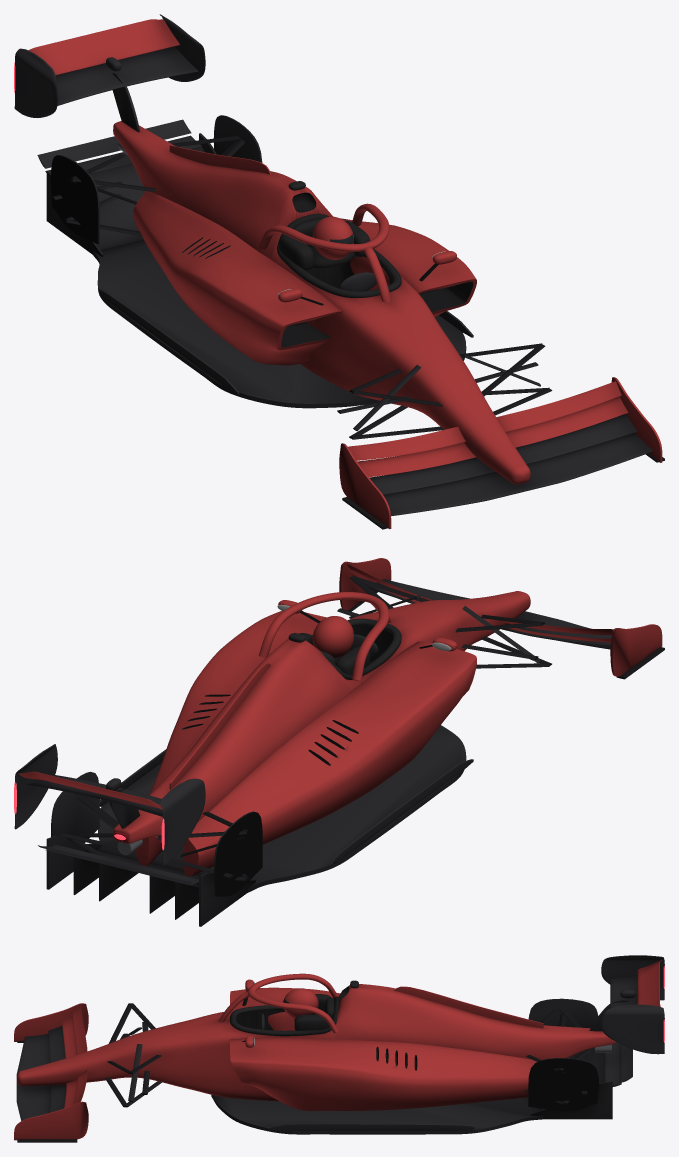
Rendered from monoposto.glb.
3 renders of one model, top to bottom at view 1: azimuth 30°, elevation 25°; view 2: azimuth 150°, elevation 25°; view 3: azimuth 270°, elevation 25°, orthographic. The views are drawn at different scales.
Visible parts, largest first — view 1: paint, carbon, trim, grille, interior; view 2: paint, carbon, trim, grille; view 3: paint, carbon, trim, interior, grille.
Boxes of the visible parts, left/top/right/bottom form: paint: left=28, top=19, right=662, bottom=529; carbon: left=14, top=14, right=664, bottom=529; trim: left=277, top=181, right=401, bottom=297; grille: left=182, top=192, right=473, bottom=347; interior: left=306, top=256, right=392, bottom=288; paint: left=18, top=558, right=662, bottom=875; carbon: left=14, top=575, right=664, bottom=926; trim: left=288, top=618, right=401, bottom=679; grille: left=181, top=694, right=358, bottom=765; paint: left=14, top=959, right=661, bottom=1140; carbon: left=16, top=955, right=664, bottom=1142; trim: left=230, top=980, right=358, bottom=1036; interior: left=236, top=1009, right=285, bottom=1030; grille: left=340, top=986, right=417, bottom=1070.
Size of what is drawn, in the model's own units: 1.9 by 0.9847 by 5.09.
